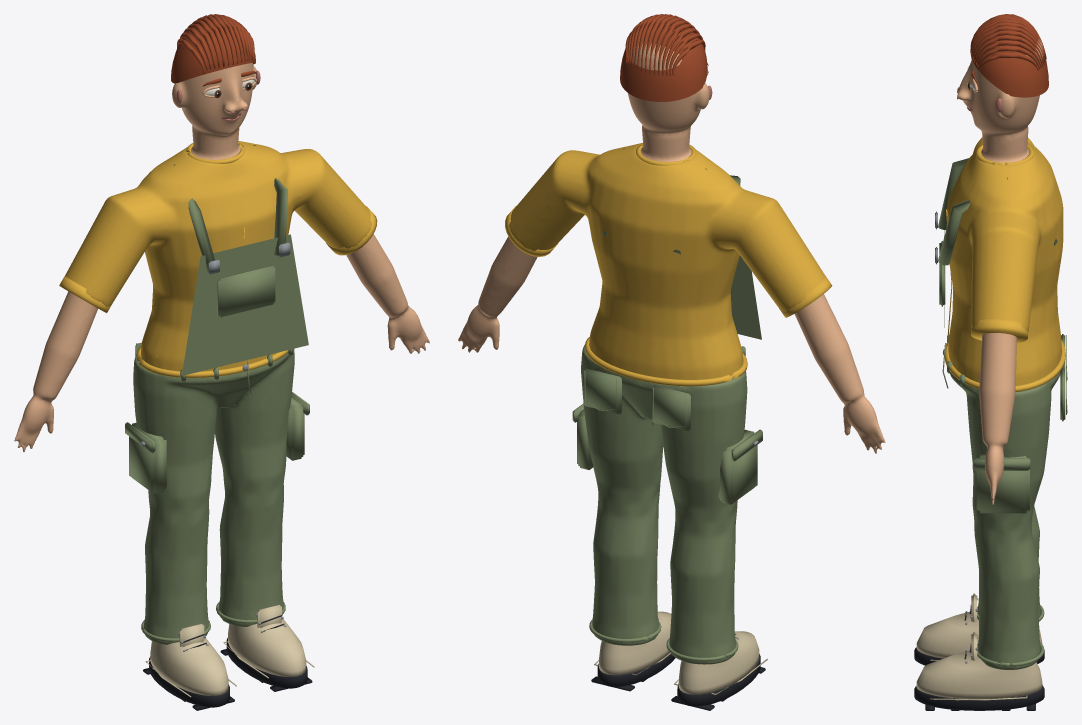
The model's file is NPC2_06_Civil_Female_Overalls.fbx.
3 renders of one model, left to right at view 1: azimuth 30°, elevation 25°; view 2: azimuth 150°, elevation 25°; view 3: azimuth 270°, elevation 25°, orthographic. The views are drawn at different scales.
Visible parts, largest first — view 1: Trouser_Continuous.007, Garment_Top_Continuous.007, Skin_06_Civil_Female_Overalls, Overall_Bib, Shoe_Upper.014, Shoe_Upper.015, Bib_Pocket, Hair_Cap.007, Cargo_Pocket.006, Cargo_Pocket.007, Top_Hem.007, Shoe_Sole.015 (+3 smaller); view 2: Garment_Top_Continuous.007, Trouser_Continuous.007, Skin_06_Civil_Female_Overalls, Hair_Cap.007, Shoe_Upper.014, Shoe_Upper.015, Cargo_Pocket.006, Overall_Bib, Back_Pocket.015, Back_Pocket.014, Top_Hem.007, Shoe_Sole.014 (+1 smaller); view 3: Garment_Top_Continuous.007, Trouser_Continuous.007, Skin_06_Civil_Female_Overalls, Shoe_Upper.015, Hair_Cap.007, Cargo_Pocket.007, Shoe_Upper.014, Shoe_Sole.015, Overall_Strap.001, Sleeve_Cuff.015, Top_Hem.007, Overall_Strap (+14 smaller).
Boxes of the visible parts, x1,y1,x2,y2 form: Trouser_Continuous.007: (133, 349, 294, 644); Garment_Top_Continuous.007: (65, 141, 371, 371); Skin_06_Civil_Female_Overalls: (14, 63, 429, 451); Overall_Bib: (182, 234, 308, 375); Shoe_Upper.014: (150, 638, 228, 695); Shoe_Upper.015: (228, 619, 306, 676); Bib_Pocket: (217, 265, 275, 317); Hair_Cap.007: (171, 24, 255, 83); Cargo_Pocket.006: (129, 422, 166, 494); Cargo_Pocket.007: (286, 397, 304, 460); Top_Hem.007: (136, 346, 288, 377); Shoe_Sole.015: (226, 637, 307, 688); Garment_Top_Continuous.007: (509, 143, 825, 379); Trouser_Continuous.007: (581, 345, 747, 664); Skin_06_Civil_Female_Overalls: (458, 42, 885, 453); Hair_Cap.007: (620, 24, 707, 101); Shoe_Upper.014: (678, 631, 759, 694); Shoe_Upper.015: (599, 611, 671, 675); Cargo_Pocket.006: (718, 429, 757, 504); Overall_Bib: (730, 256, 761, 339); Back_Pocket.015: (583, 368, 621, 414); Back_Pocket.014: (652, 385, 690, 431); Top_Hem.007: (585, 337, 747, 386); Shoe_Sole.014: (677, 654, 760, 706); Garment_Top_Continuous.007: (946, 137, 1063, 385); Trouser_Continuous.007: (950, 372, 1060, 669); Skin_06_Civil_Female_Overalls: (957, 38, 1043, 504); Shoe_Upper.015: (916, 650, 1042, 699); Hair_Cap.007: (971, 36, 1048, 97); Cargo_Pocket.007: (976, 453, 1029, 513); Shoe_Upper.014: (916, 611, 1042, 658); Shoe_Sole.015: (914, 686, 1044, 710); Overall_Strap.001: (938, 177, 1057, 265); Sleeve_Cuff.015: (971, 319, 1028, 342); Top_Hem.007: (944, 340, 1065, 391); Overall_Strap: (938, 158, 968, 230).
Bounding box in the file's own units: 1.16 × 1.74 × 0.3628.
